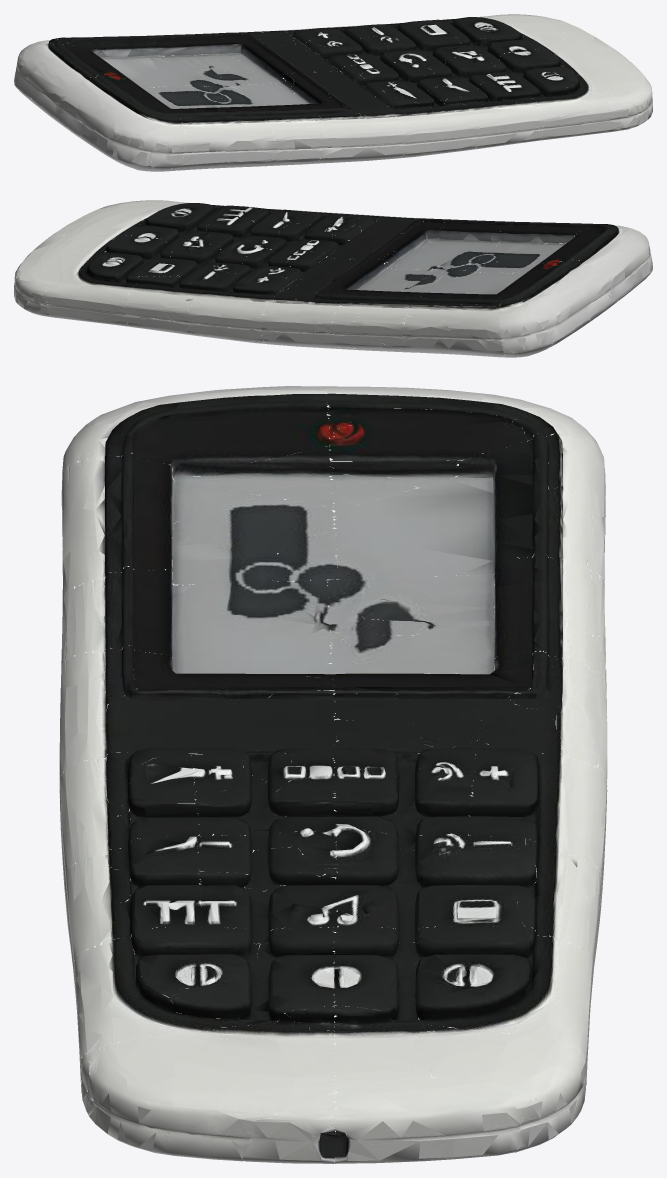
Rendered from finetuner.glb.
The picture shows the model from 3 angles, top to bottom: view 1: azimuth 30°, elevation 25°; view 2: azimuth 150°, elevation 25°; view 3: azimuth 270°, elevation 25°; orthographic projection. The views are drawn at different scales.
Parts seen in each view (by area): view 1: tripo_node_42df78b7-c9f7-489d-955f-66e58ccb34e0; view 2: tripo_node_42df78b7-c9f7-489d-955f-66e58ccb34e0; view 3: tripo_node_42df78b7-c9f7-489d-955f-66e58ccb34e0.
Boxes of the visible parts, left/top/right/bottom form: tripo_node_42df78b7-c9f7-489d-955f-66e58ccb34e0: left=14, top=14, right=652, bottom=171; tripo_node_42df78b7-c9f7-489d-955f-66e58ccb34e0: left=14, top=200, right=652, bottom=357; tripo_node_42df78b7-c9f7-489d-955f-66e58ccb34e0: left=59, top=386, right=607, bottom=1163.
Bounding box in the file's own units: 0.9808 × 0.2223 × 0.413.
Materials: 1 (1 with a texture image).
